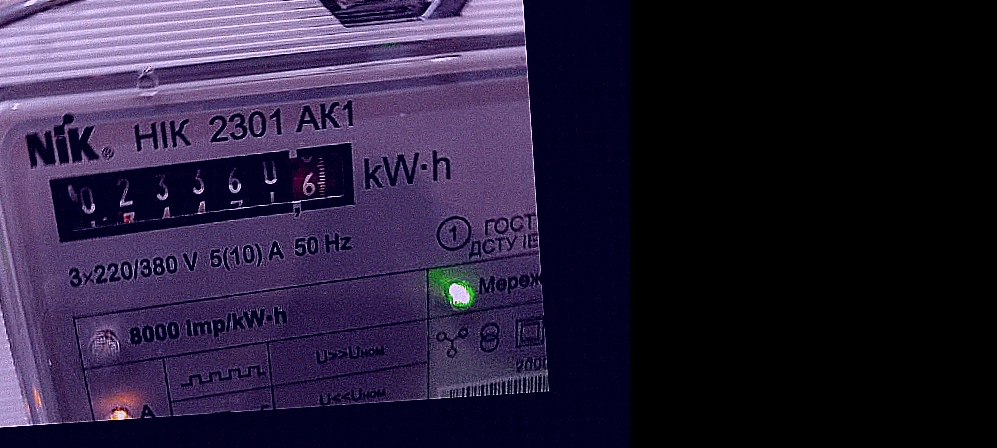0: (75, 181, 99, 216), (256, 155, 280, 187)
2: (113, 173, 135, 208)
3: (187, 162, 208, 196), (149, 170, 170, 202)
6: (222, 161, 245, 196), (297, 165, 320, 200)
screen: (31, 132, 374, 249)
